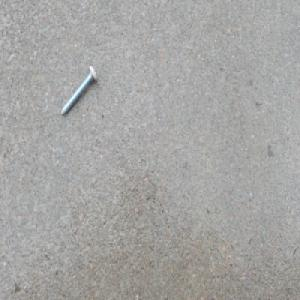Nail: (59, 63, 98, 118)
